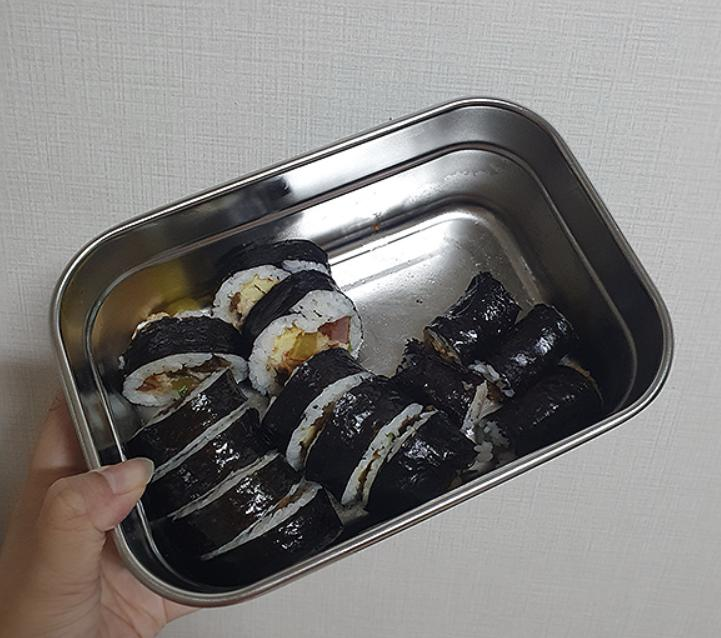Lunch Box: (51, 98, 672, 606)
